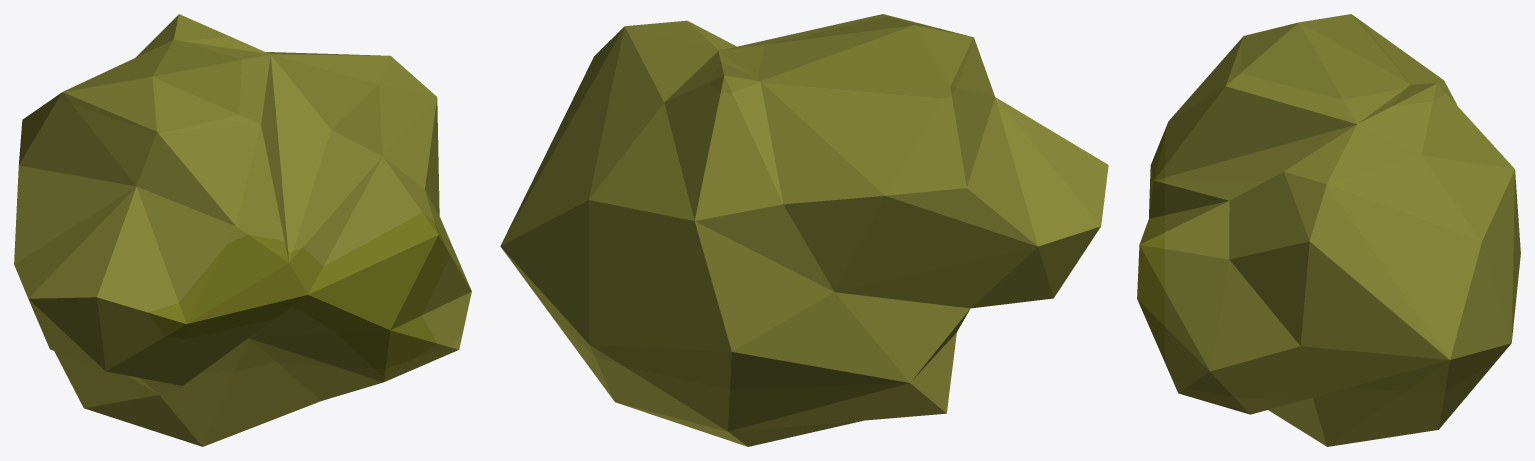
Rendered from YN_TreeBush3.fbx.
3 views of the same model, side by side, from view 1: azimuth 30°, elevation 25°; view 2: azimuth 150°, elevation 25°; view 3: azimuth 270°, elevation 25° (orthographic). The views are drawn at different scales.
Parts seen in each view (by area): view 1: YN_TreeBush3; view 2: YN_TreeBush3; view 3: YN_TreeBush3.
Part boxes in pixels (box(x1,y1,x2,y2)): YN_TreeBush3: box(14, 14, 471, 446); YN_TreeBush3: box(500, 14, 1108, 446); YN_TreeBush3: box(1137, 14, 1520, 446).
Size of the model in its own units: 13.47 by 10.8 by 10.77.
